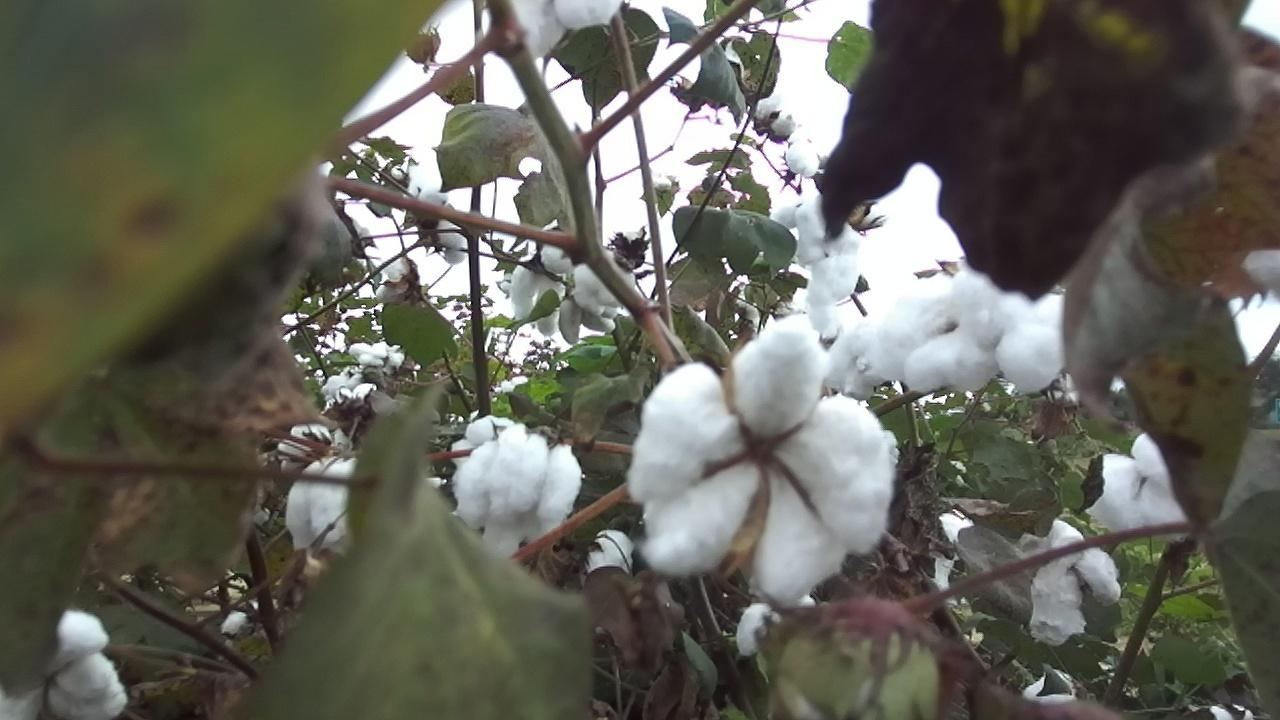cotton_ready: (628, 315, 895, 598), (864, 265, 1065, 387), (456, 424, 584, 559), (0, 609, 130, 720), (1219, 64, 1280, 289), (776, 195, 867, 331), (1029, 517, 1122, 643), (1086, 437, 1189, 546), (287, 459, 370, 554), (512, 247, 580, 343), (511, 0, 624, 57), (740, 579, 820, 654), (925, 509, 975, 594), (573, 257, 637, 318), (585, 532, 631, 578)
